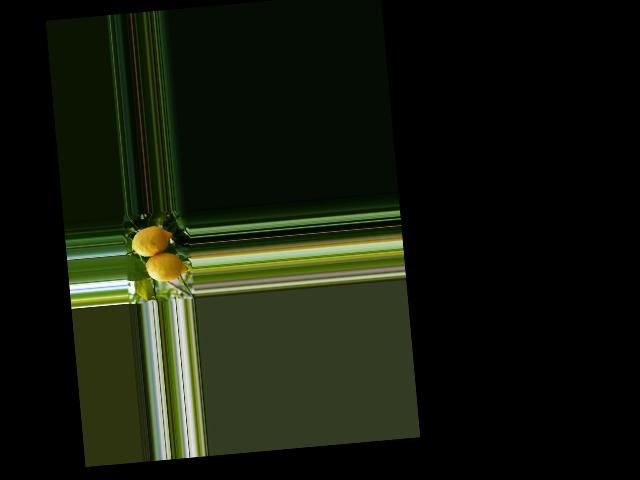lemon: (142, 249, 188, 286)
